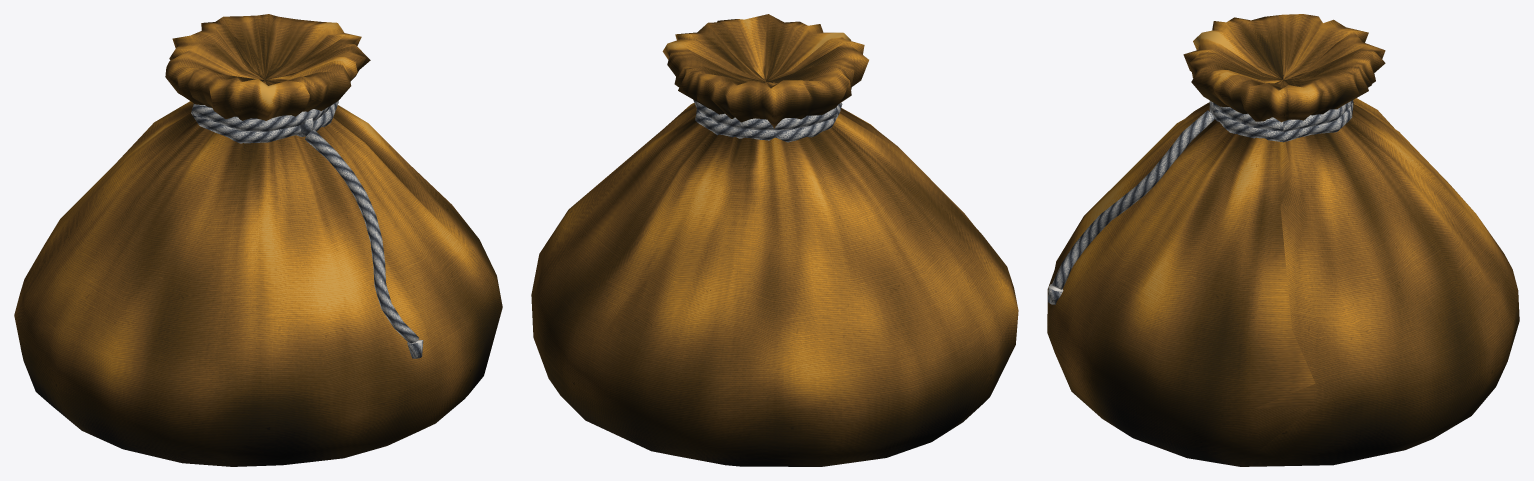
The model's file is mm6_deco_bag_a.glb.
The picture shows the model from 3 angles, left to right: view 1: azimuth 30°, elevation 25°; view 2: azimuth 150°, elevation 25°; view 3: azimuth 270°, elevation 25°; orthographic projection.
Parts seen in each view (by area): view 1: BagA; view 2: BagA; view 3: BagA.
Boxes of the visible parts, <box> form: BagA: <box>14,14,502,466</box>; BagA: <box>531,14,1018,466</box>; BagA: <box>1047,14,1519,466</box>.
Bounding box in the file's own units: 0.7005 × 0.5346 × 0.6681.
Materials: 2 (2 with a texture image).
